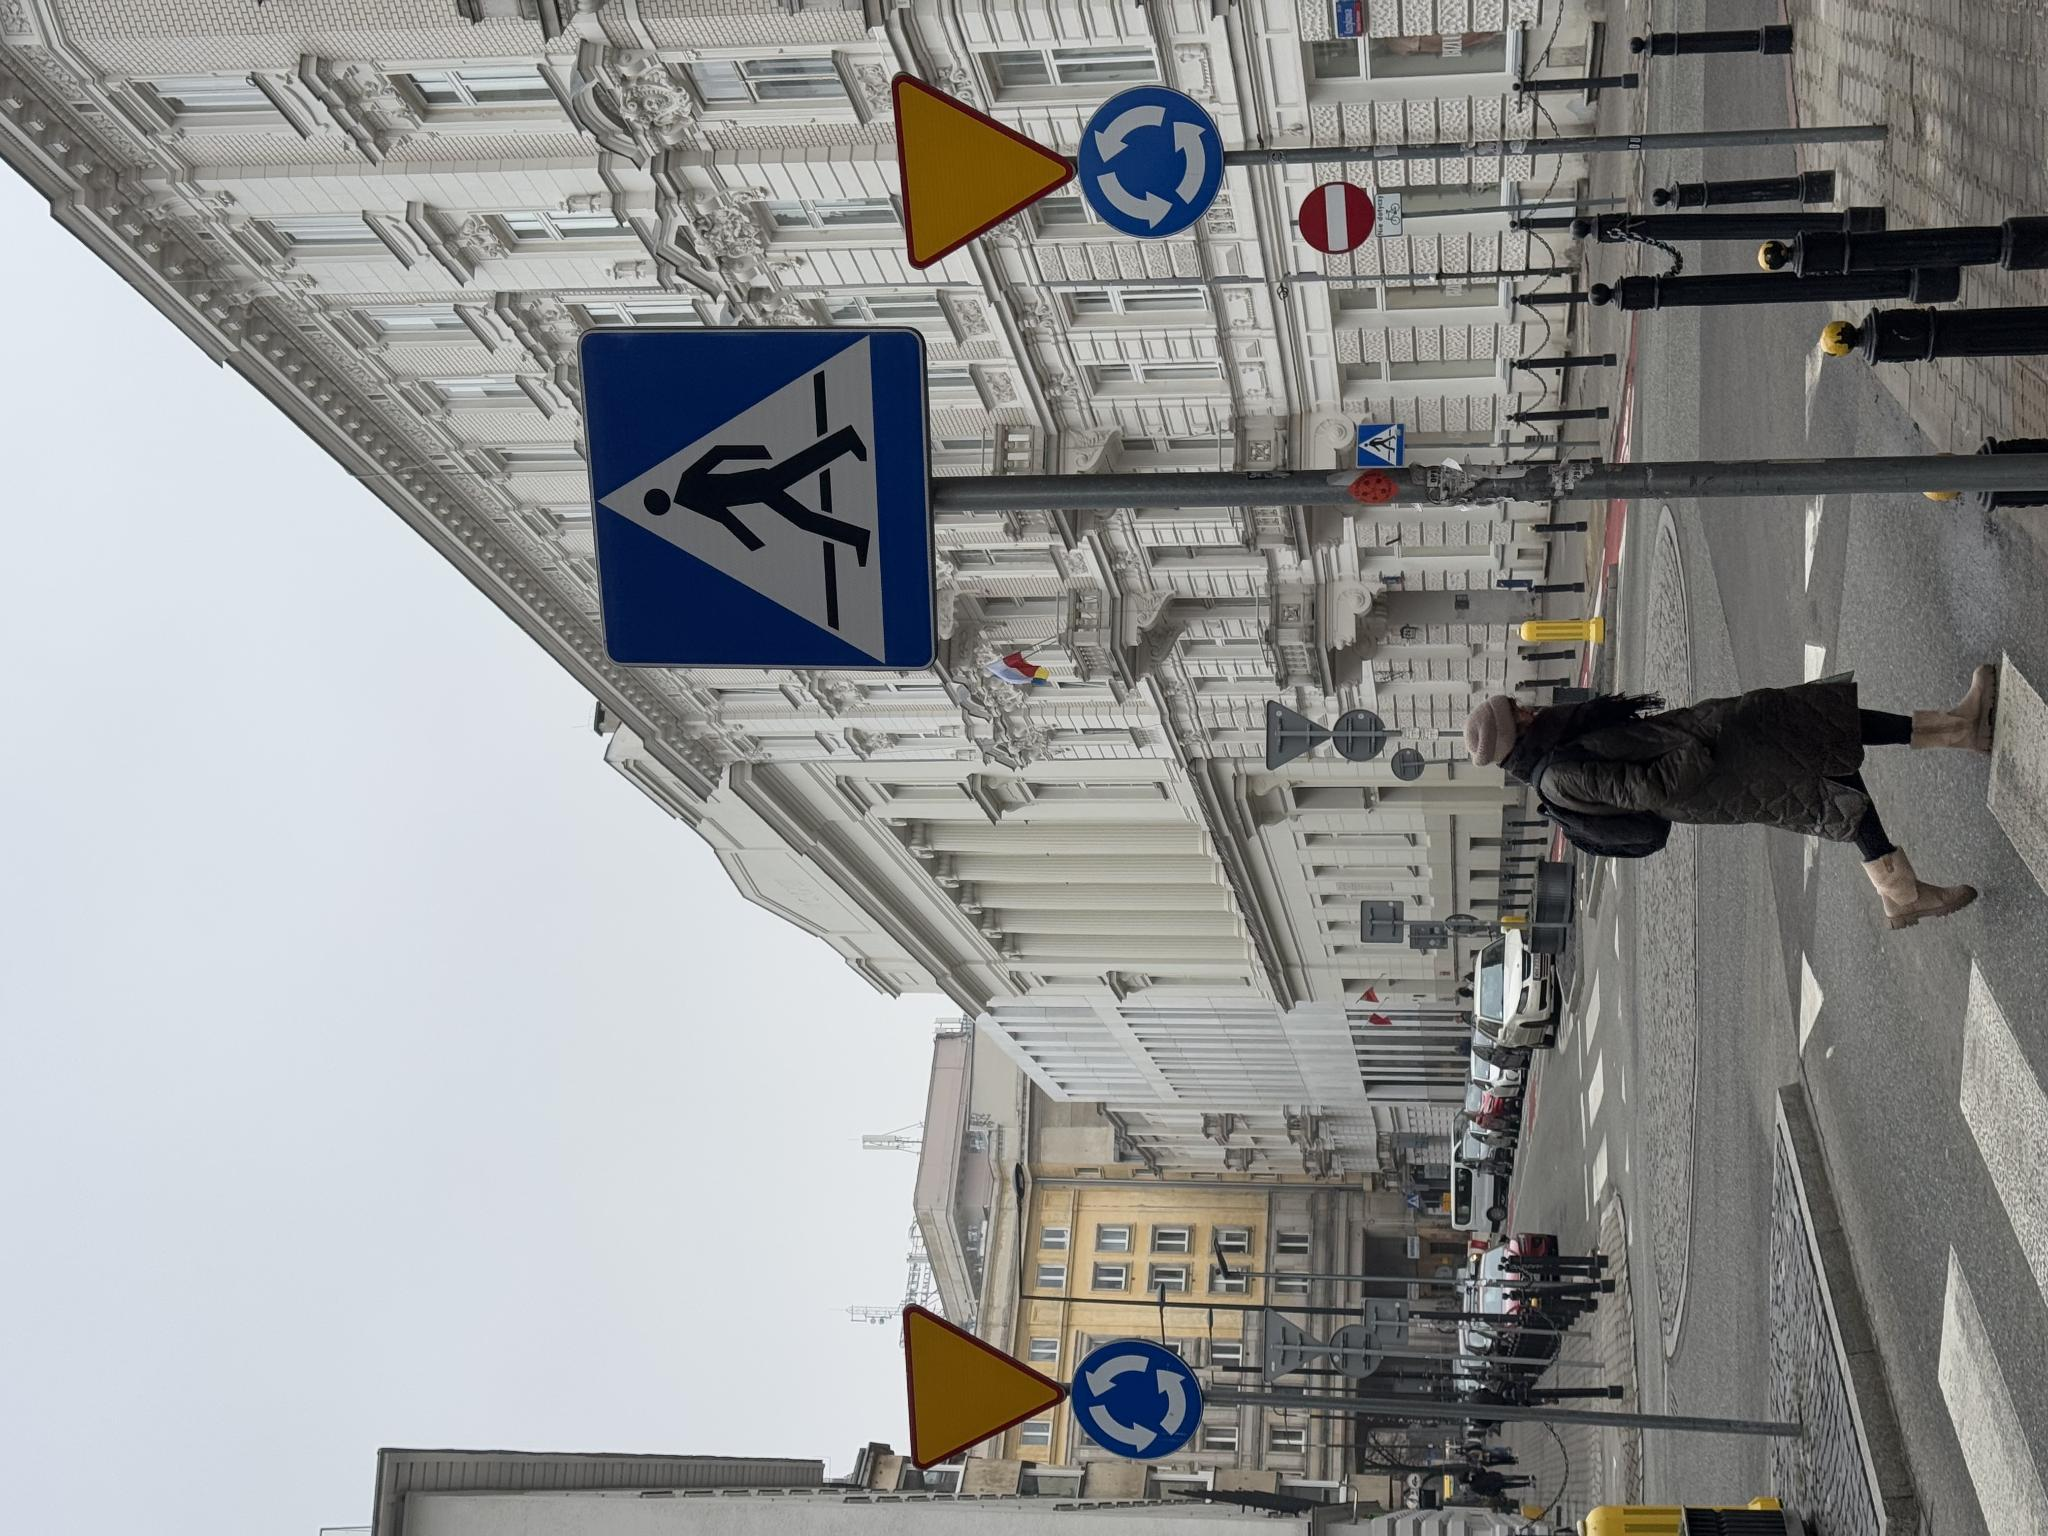information: (863, 576, 1213, 941), (1069, 1357, 1114, 1405)
mandatory: (1297, 1075, 1450, 1229), (71, 1070, 200, 1204)
prohibitory: (1282, 1297, 1355, 1376)
warning: (1266, 891, 1464, 1079), (66, 902, 235, 1068)
